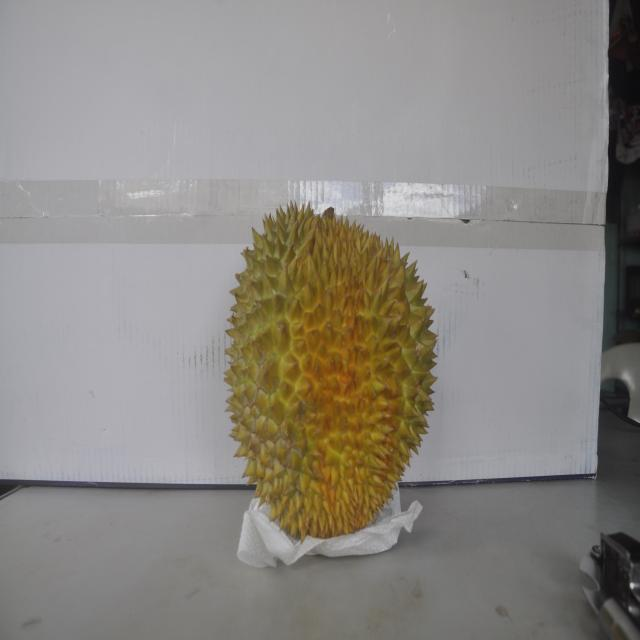mature: (222, 196, 432, 543)
